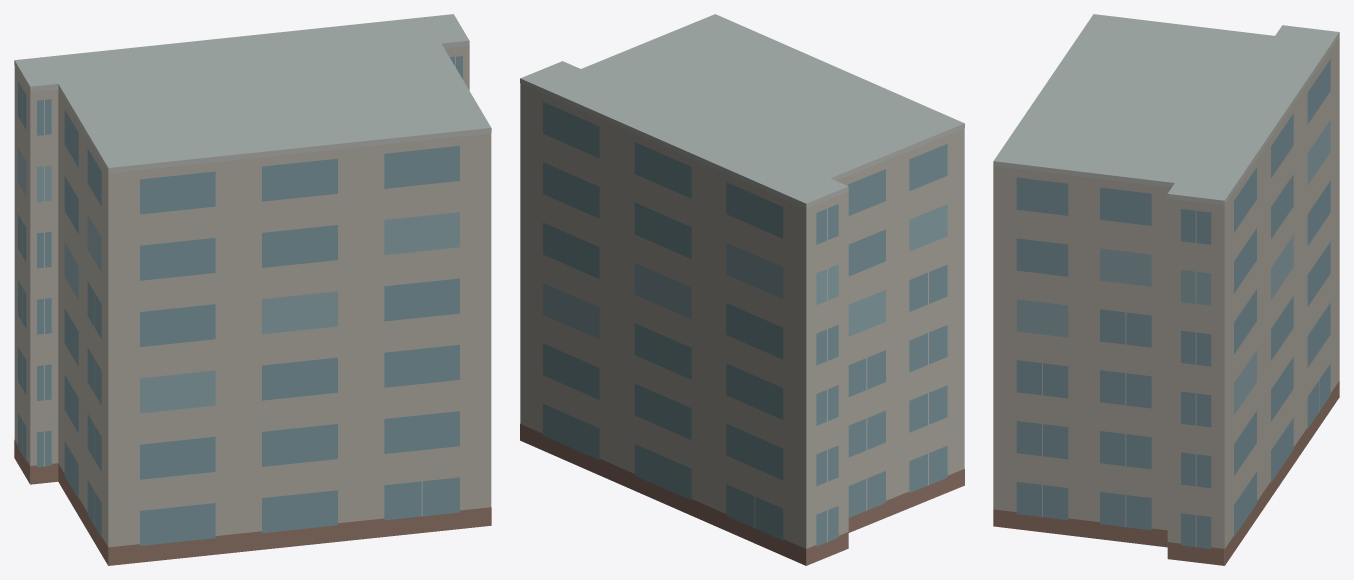
The model's file is survey-upis-32670593.glb.
3 renders of one model, left to right at view 1: azimuth 30°, elevation 25°; view 2: azimuth 150°, elevation 25°; view 3: azimuth 270°, elevation 25°, orthographic. The views are drawn at different scales.
Parts seen in each view (by area): view 1: survey-upis-32670593.tmp; view 2: survey-upis-32670593.tmp; view 3: survey-upis-32670593.tmp.
Part boxes in pixels (x1,y1,x2,y2): survey-upis-32670593.tmp: [14, 14, 491, 565]; survey-upis-32670593.tmp: [520, 14, 964, 565]; survey-upis-32670593.tmp: [993, 14, 1339, 565].
Size of the model in its own units: 19.97 by 18.2 by 15.65.
